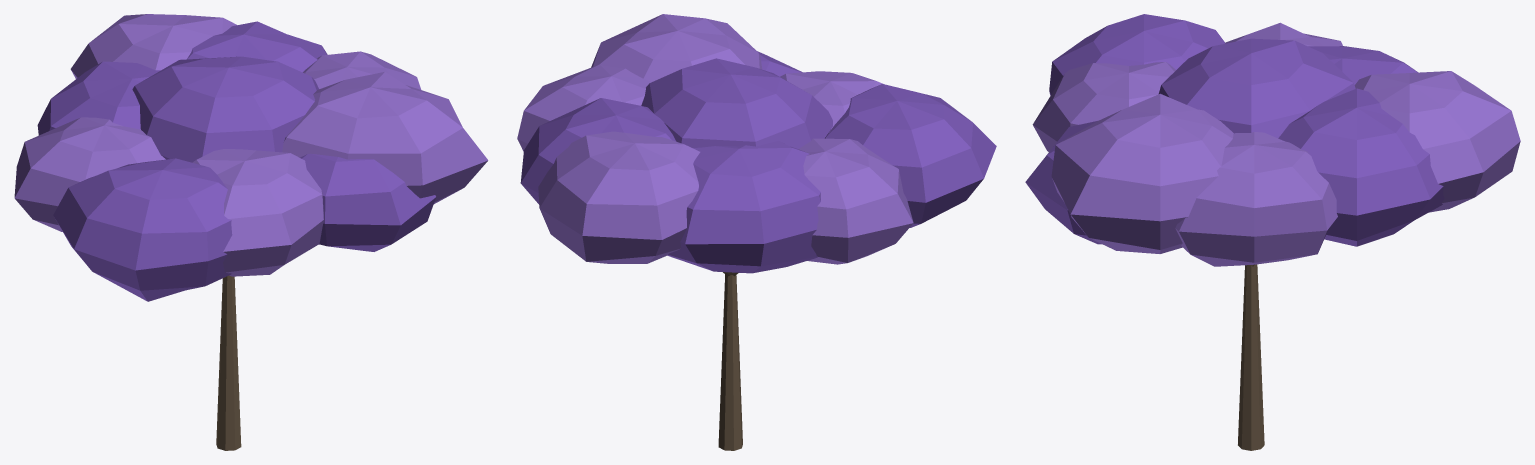
File: tree_jacaranda_medium.glb
3 renders of one model, left to right at view 1: azimuth 30°, elevation 25°; view 2: azimuth 150°, elevation 25°; view 3: azimuth 270°, elevation 25°, orthographic. The views are drawn at different scales.
Parts seen in each view (by area): view 1: tree_jacaranda_medium; view 2: tree_jacaranda_medium; view 3: tree_jacaranda_medium.
Part boxes in pixels (x1,y1,x2,y2): tree_jacaranda_medium: (14, 14, 488, 450); tree_jacaranda_medium: (517, 14, 996, 450); tree_jacaranda_medium: (1025, 14, 1520, 450).
Size of the model in its own units: 10.07 by 9.1 by 10.43.
